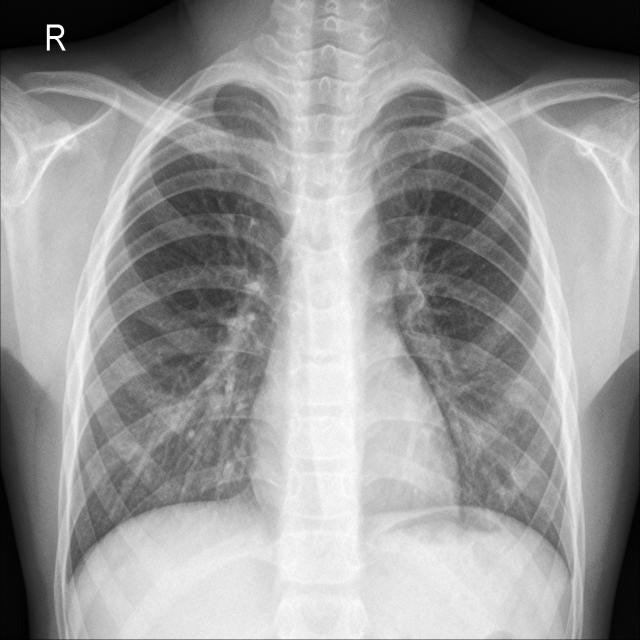no-pneumonia: (62, 80, 287, 583), (374, 89, 568, 554)
